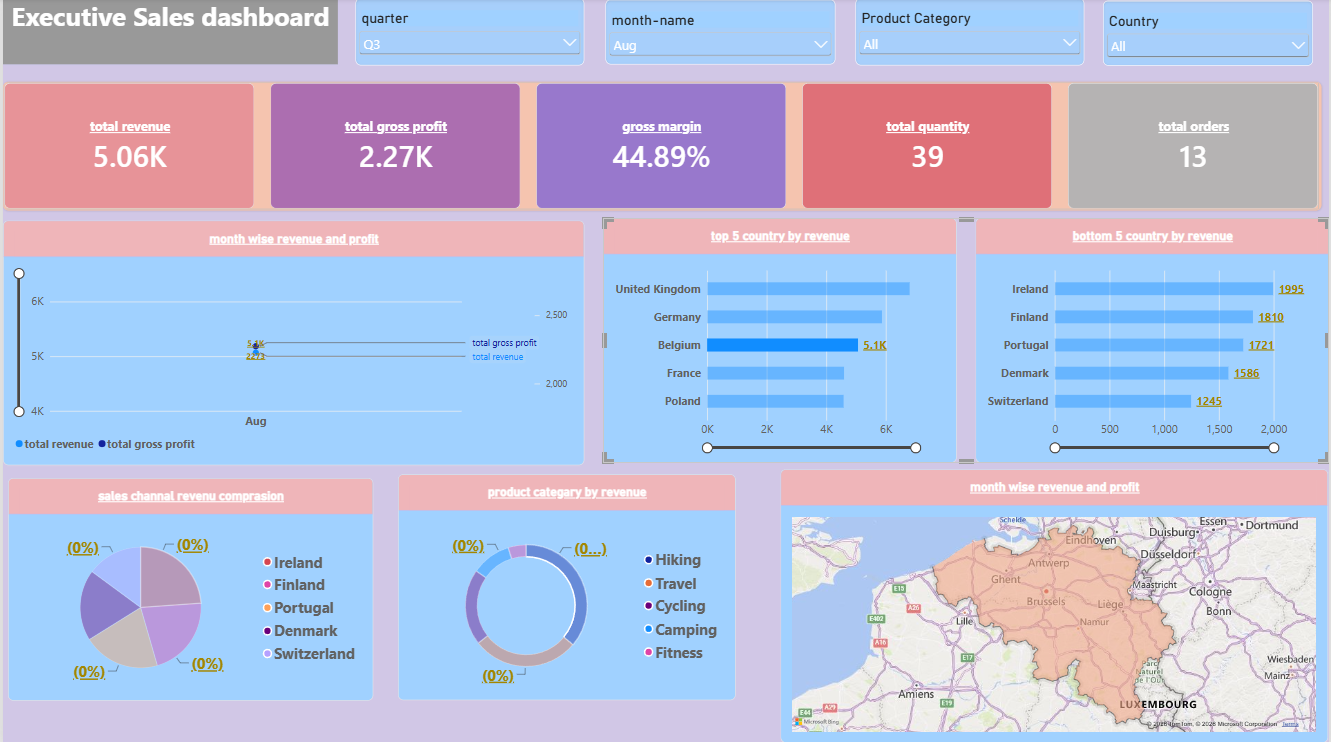

Layout of this report page (visuals, bound fields, positions):
{"tool":"powerbi","page":{"name":"Page 1","canvas":[1920,1080],"ordinal":0},"visuals":[{"type":"cardVisual","fields":{"Data":["all_measure.total revenue","all_measure.total gross profit","all_measure.gross margin","all_measure.total quantity","all_measure.total orders"]},"box":[0,121.2,1909.2,186.4],"z":0},{"type":"clusteredBarChart","title":"top 5 country by revenue","fields":{"Category":["SALES.Country"],"Y":["all_measure.total revenue"]},"box":[868.6,318.7,512.1,354.7],"z":0,"group":"g1"},{"type":"textbox","box":[6.7,13.4,485,95.9],"z":1000},{"type":"clusteredBarChart","title":"bottom 5 country by revenue","fields":{"Category":["SALES.Country"],"Y":["all_measure.total revenue"]},"box":[1407.8,318.7,512.1,354.7],"z":1000,"group":"g1"},{"type":"slicer","fields":{"Values":["date-table.quarter"]},"box":[510.9,11.7,330.6,98.5],"z":2000},{"type":"slicer","fields":{"Values":["SALES.Country"]},"box":[1593,18.4,303.9,95.2],"z":3000},{"type":"slicer","fields":{"Values":["date-table.month-name"]},"box":[871.6,16.7,334,93.5],"z":4000},{"type":"slicer","fields":{"Values":["SALES.Product Category"]},"box":[1234,16.7,330.6,98.5],"z":5000},{"type":"lineChart","title":"month wise revenue and profit","fields":{"Category":["date-table.month-name"],"Y":["all_measure.total revenue"],"Y2":["all_measure.total gross profit"]},"box":[0,322.1,841.5,354.7],"z":6000},{"type":"filledMap","title":"MAP","fields":{"Category":["SALES.Country"]},"box":[1072.5,672.5,845,385],"z":7000},{"type":"donutChart","title":"product categary by revenue","fields":{"Category":["SALES.Product Category"],"Y":["Sum(SALES.Gross Profit)"]},"box":[571.9,689.5,488.6,327.5],"z":8000},{"type":"pieChart","title":"sales channal revenu comprasion","fields":{"Category":["SALES.Country"],"Y":["all_measure.total revenue"]},"box":[7.2,694.9,528.4,322.1],"z":9000},{"type":"group","id":"g1","title":"Group 1","box":[868.6,318.7,1051.3,354.7],"z":10000}]}

Visuals, with their boxes in screenshot pixels (x1, y1, x2, y2), scaled from the page's 1920x1080 canvas onto the 1331x742 screenshot:
cardVisual - all_measure.total revenue x all_measure.total gross profit: x1=0, y1=83, x2=1324, y2=211
"top 5 country by revenue" clusteredBarChart: x1=602, y1=219, x2=957, y2=463
textbox: x1=5, y1=9, x2=341, y2=75
"bottom 5 country by revenue" clusteredBarChart: x1=976, y1=219, x2=1330, y2=463
slicer - date-table.quarter: x1=354, y1=8, x2=583, y2=76
slicer - SALES.Country: x1=1104, y1=13, x2=1315, y2=78
slicer - date-table.month-name: x1=604, y1=11, x2=836, y2=76
slicer - SALES.Product Category: x1=855, y1=11, x2=1085, y2=79
"month wise revenue and profit" lineChart: x1=0, y1=221, x2=583, y2=465
"MAP" filledMap: x1=743, y1=462, x2=1329, y2=727
"product categary by revenue" donutChart: x1=396, y1=474, x2=735, y2=699
"sales channal revenu comprasion" pieChart: x1=5, y1=477, x2=371, y2=699
"Group 1" group: x1=602, y1=219, x2=1330, y2=463
